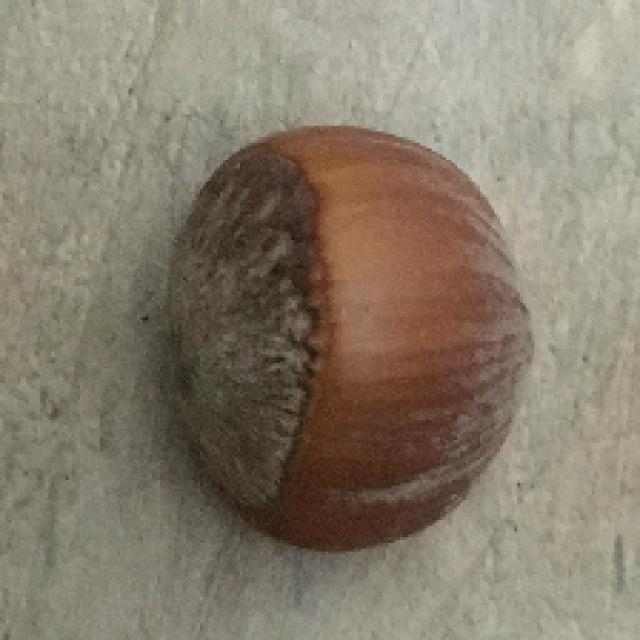qualityHazelnut: (150, 119, 535, 556)
